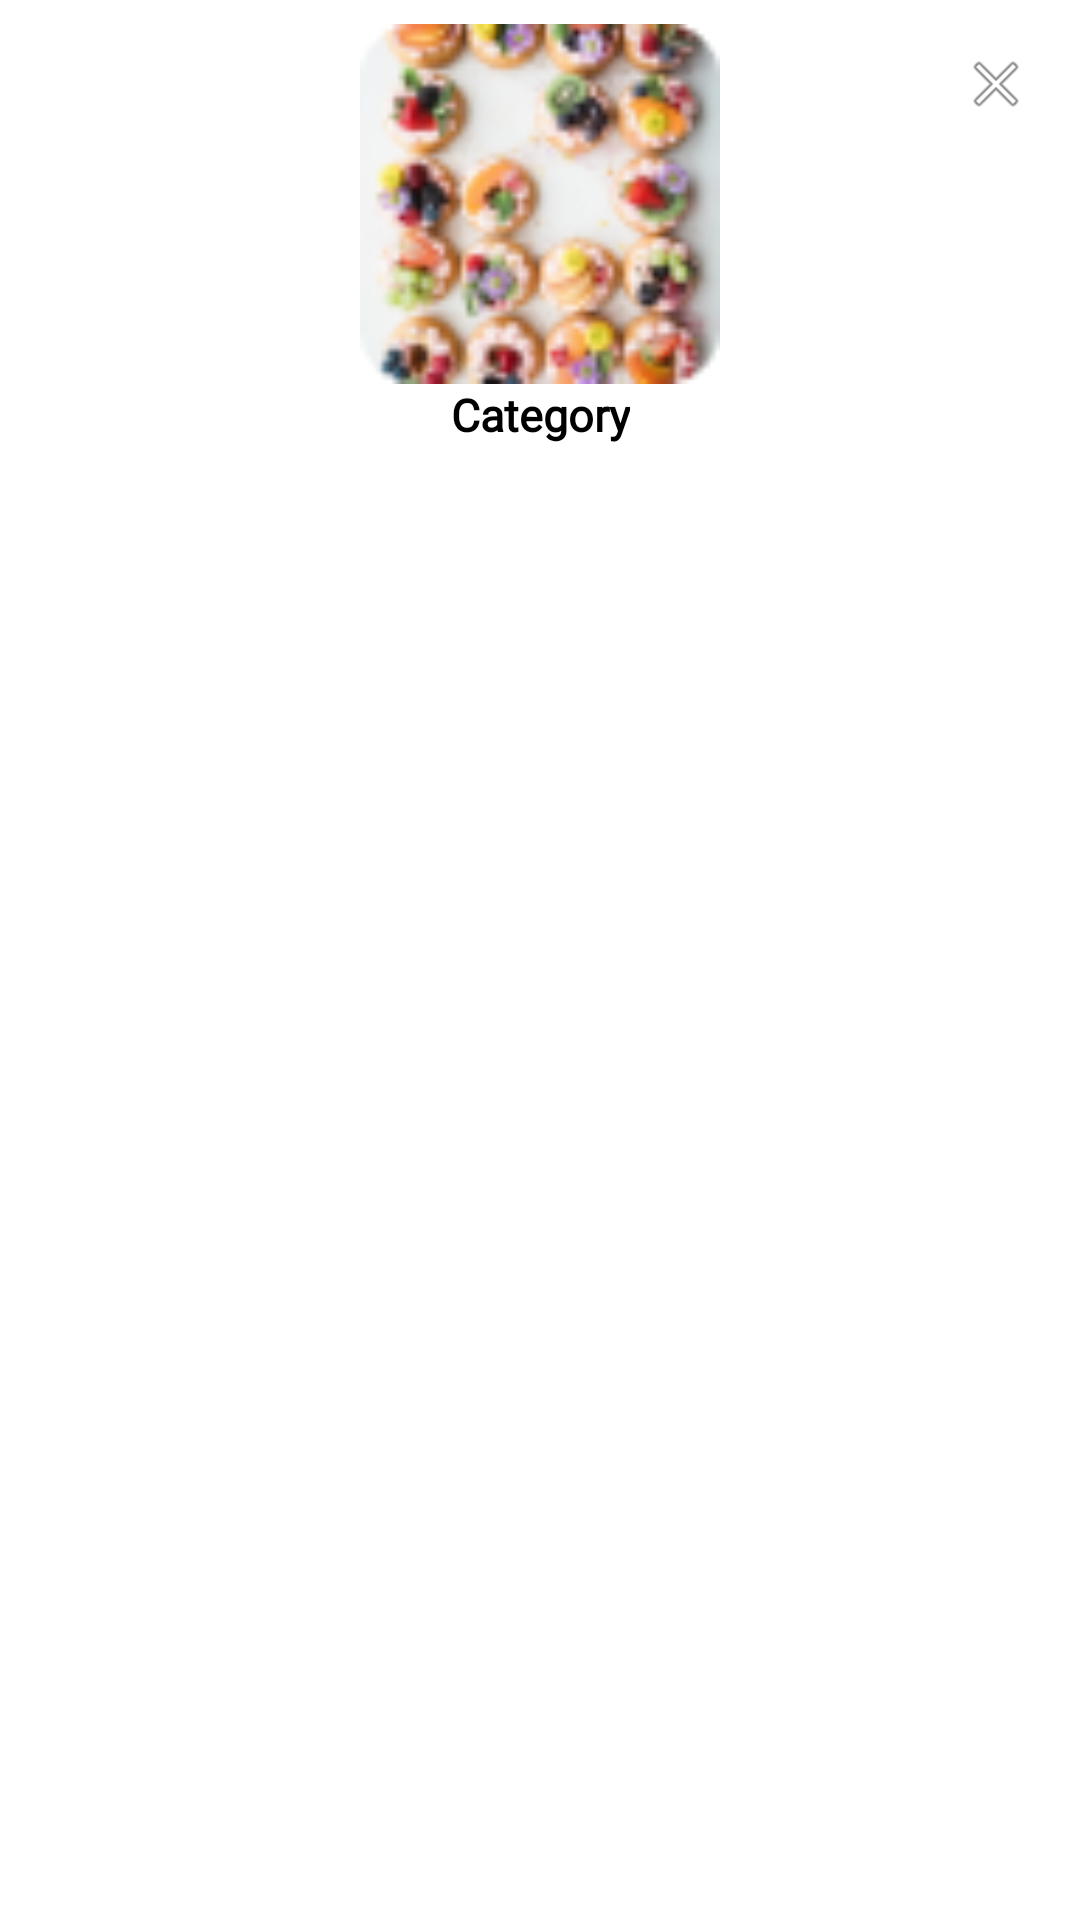

Where to tap for icons on this 1080 x 1920 app screen, as [x,y]:
close clear cancel: [996,84]
product: [547,204]
